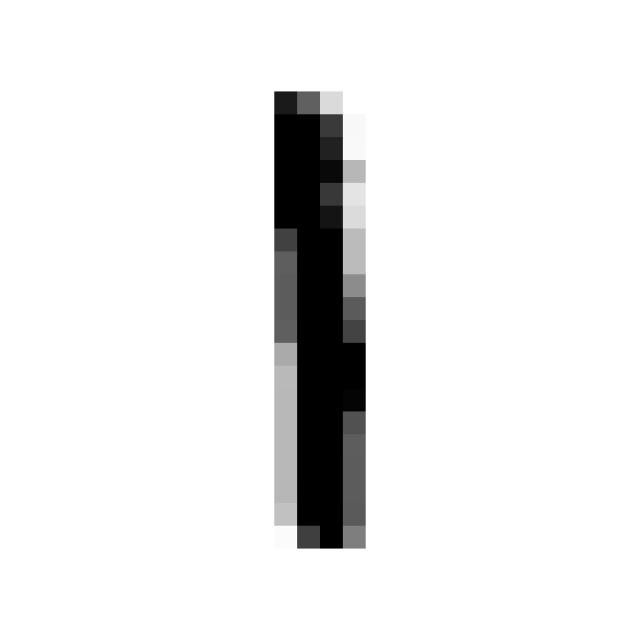1 -one-: (231, 62, 401, 570)
